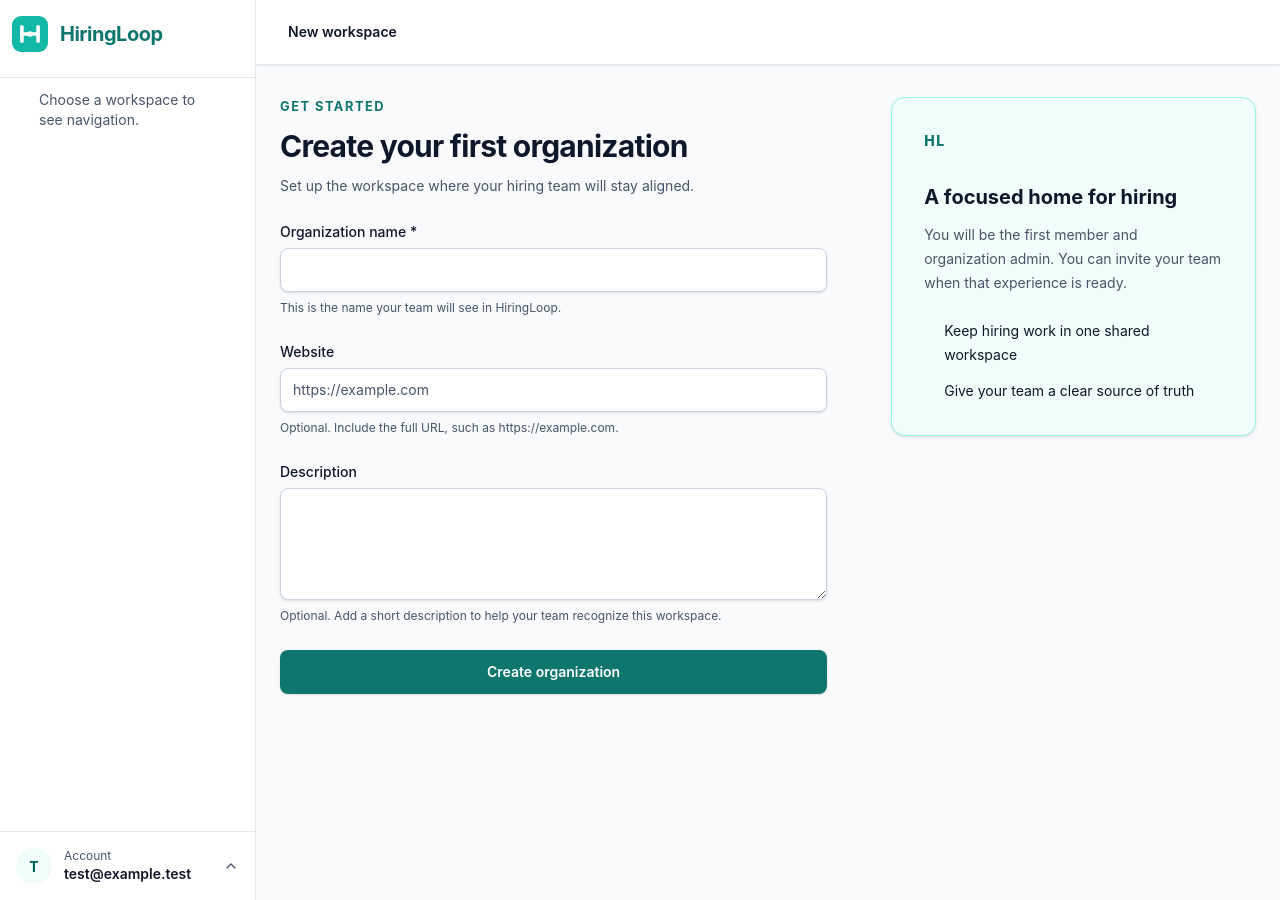
Test: application routes › keeps sign out inside the compact account menu
Click the button with aria-label "Open account menu".
click(128, 866)  # box [8,840,247,892]
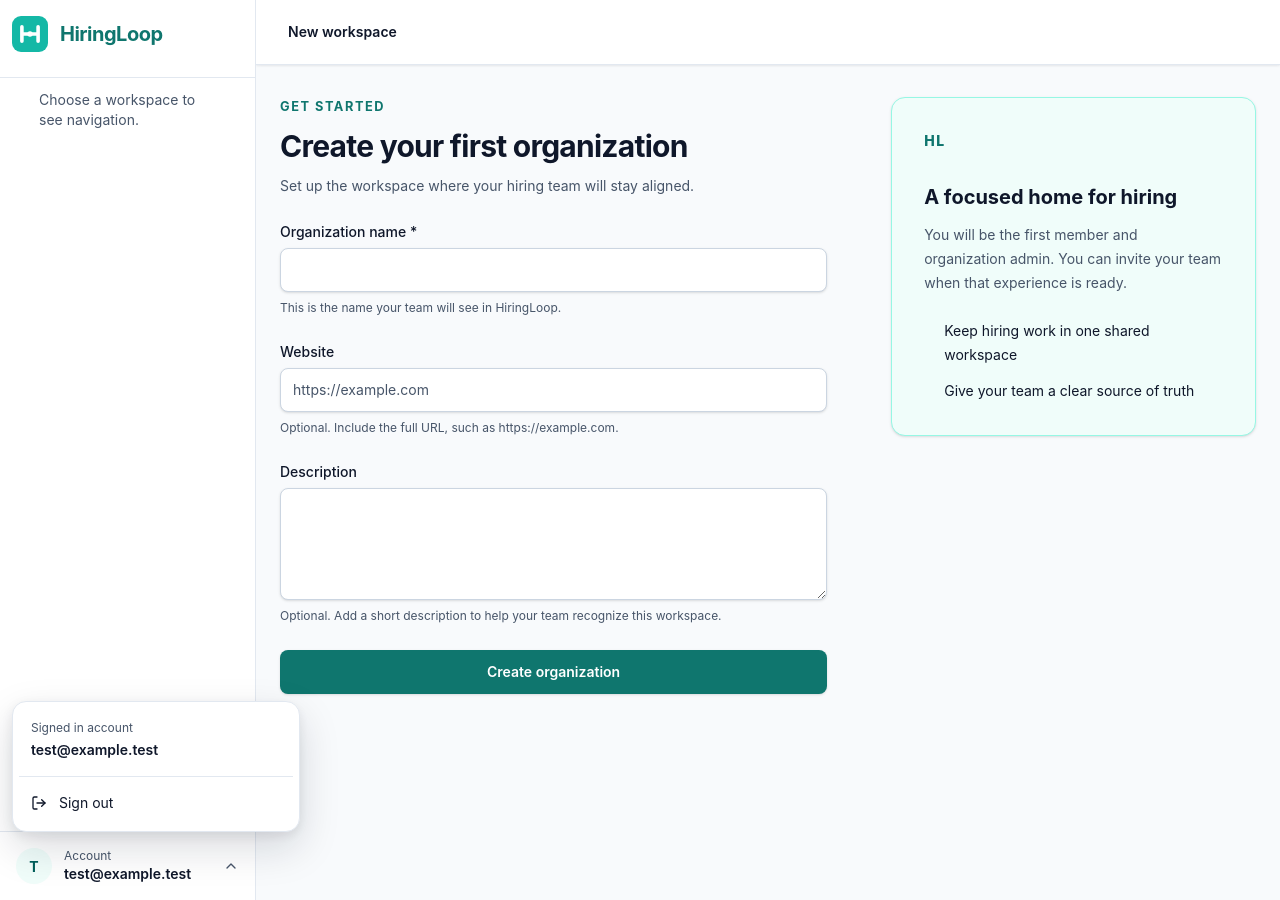
Now the menu is shown, box [12,701,300,832]
Now the menu item "Sign out" is shown, box [31,794,113,811]
Now the text "test@example.test" below "Signed in account" is shown, box [31,741,158,758]
